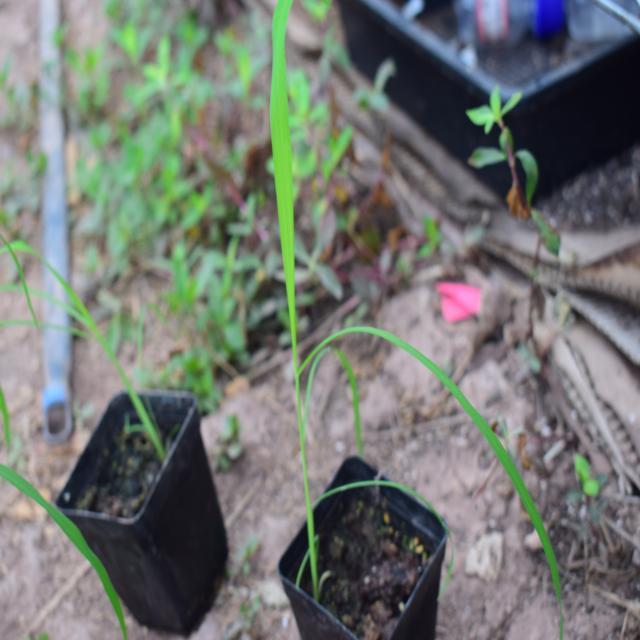barnyard_grass: (254, 34, 550, 564)
